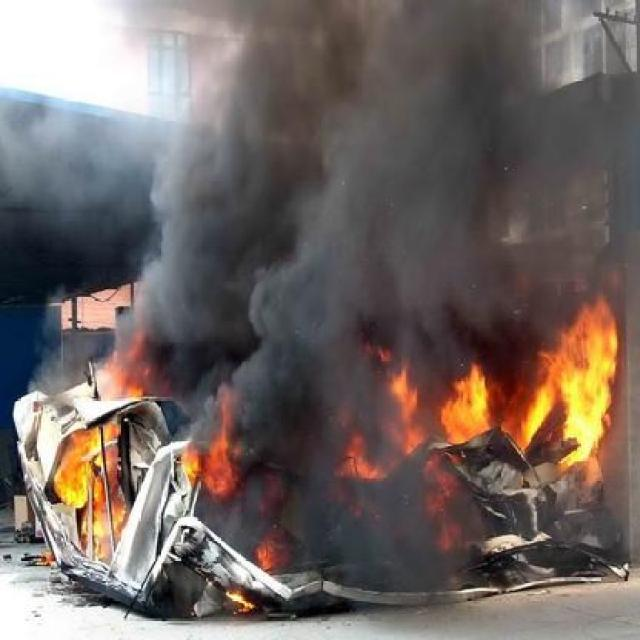Fire: (333, 302, 634, 558), (168, 370, 314, 580), (26, 372, 148, 558)
Smoke: (122, 0, 640, 305)
